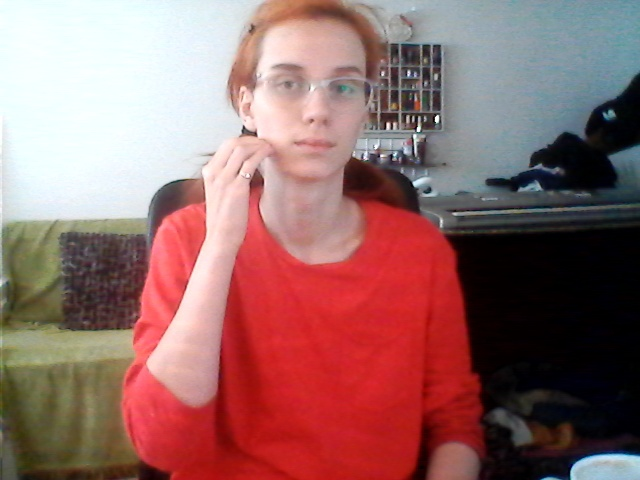dievca: (201, 120, 310, 237)
